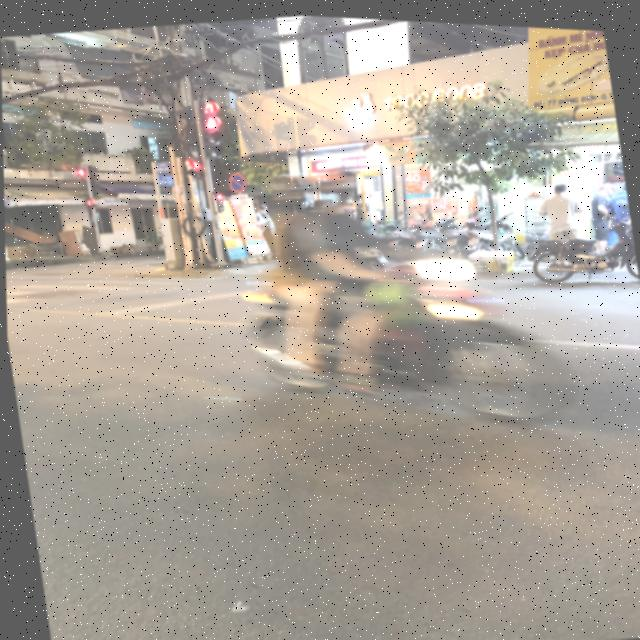Red: (194, 109, 227, 160), (206, 185, 227, 214)
